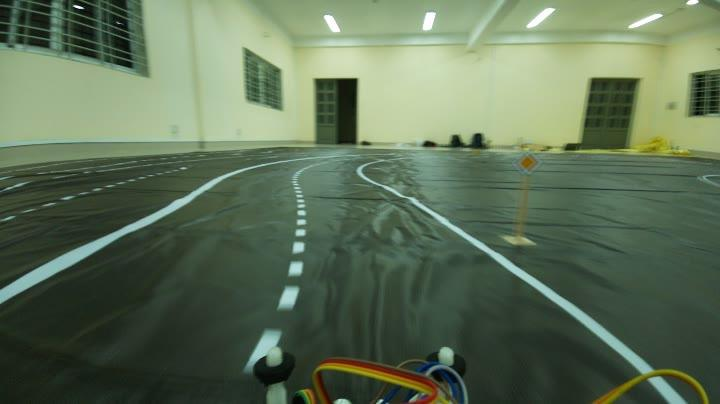priority: (513, 148, 538, 175)
